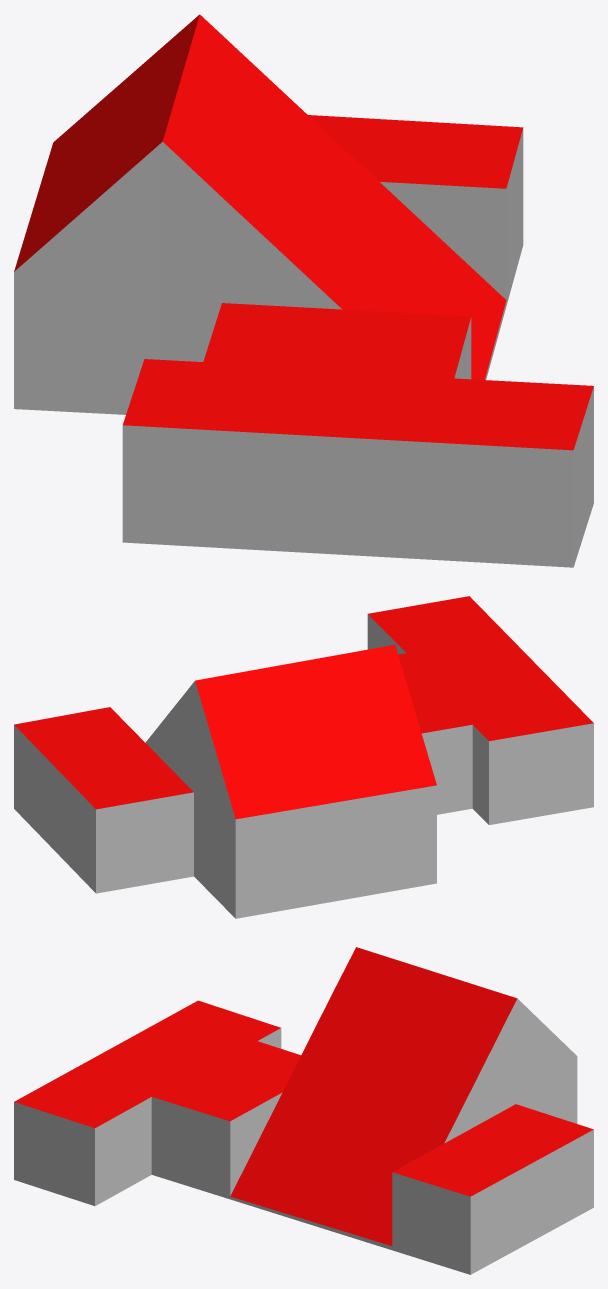
The picture shows the model from 3 angles, top to bottom: view 1: azimuth 30°, elevation 25°; view 2: azimuth 150°, elevation 25°; view 3: azimuth 270°, elevation 25°; orthographic projection. The views are drawn at different scales.
Size of the model in its own units: 16.84 by 7.31 by 21.
